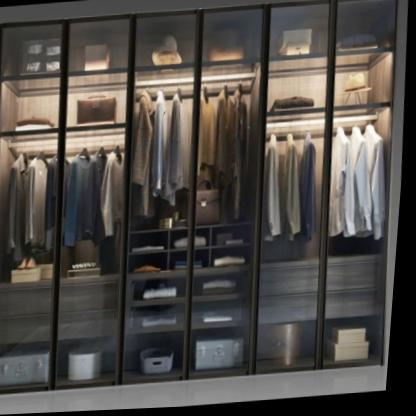Transparent Closet: (0, 0, 399, 396)
